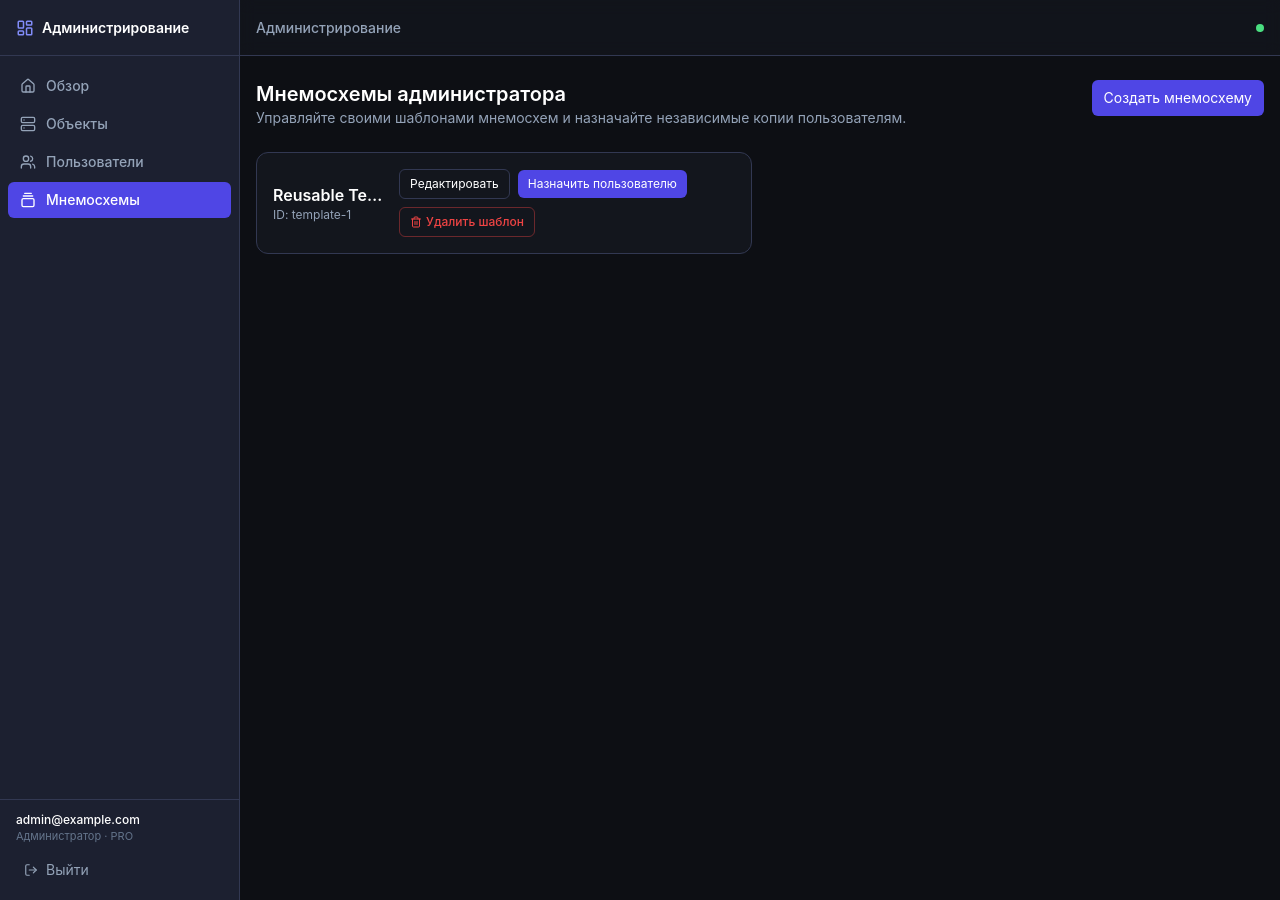
Test case: Admin Hub routes and pages (canonical edge contract) › clears a candidate-loading error after a successful server-backed retry
The image size is (1280, 900).
Click the button "Назначить пользователю" at (602, 184), box [518, 170, 687, 198]
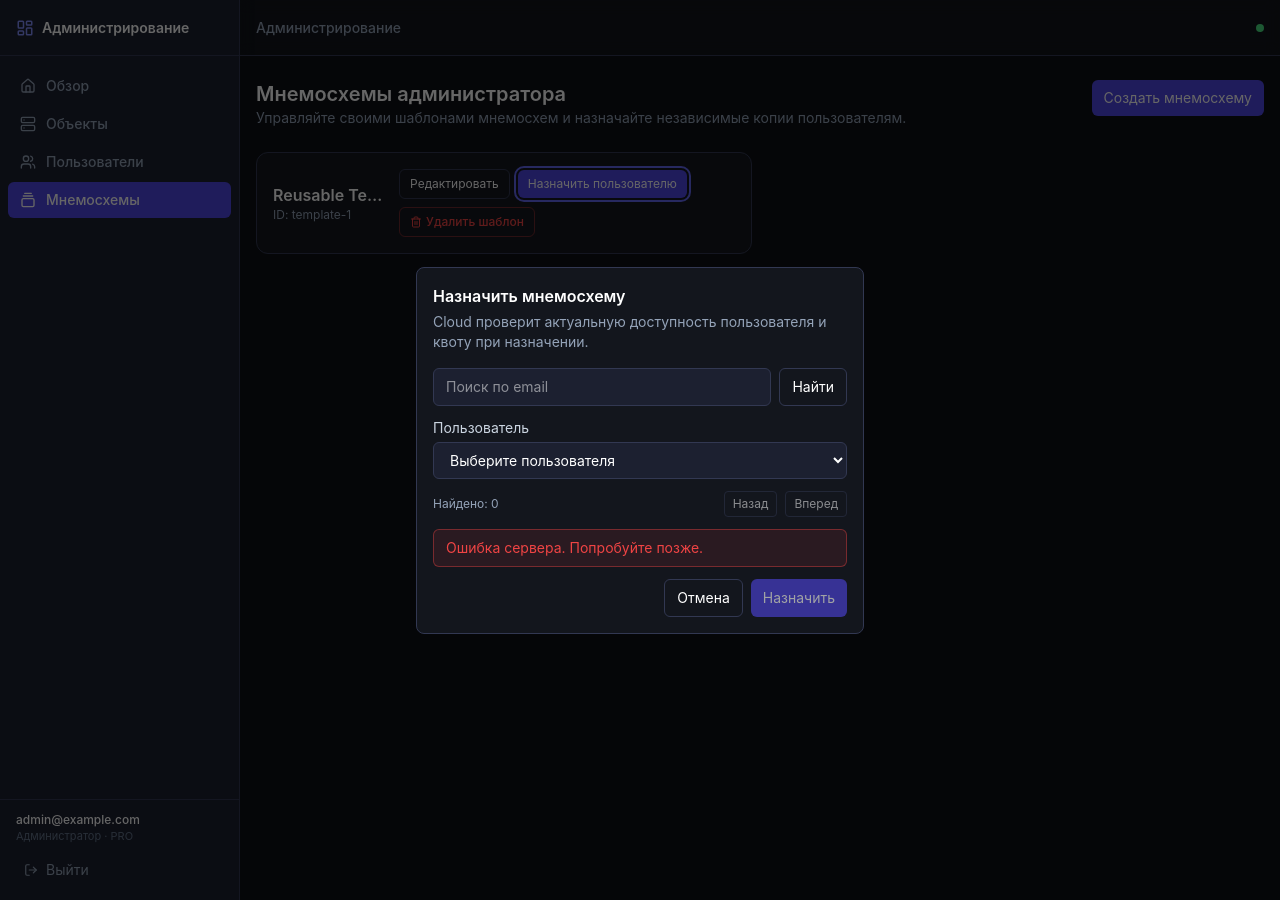
Expected: the text "Ошибка сервера. Попробуйте позже." is shown, [433, 528, 847, 566]
Type "recovered" into the search field named "Поиск пользователей для назначения" at (602, 386), box [433, 368, 771, 406]
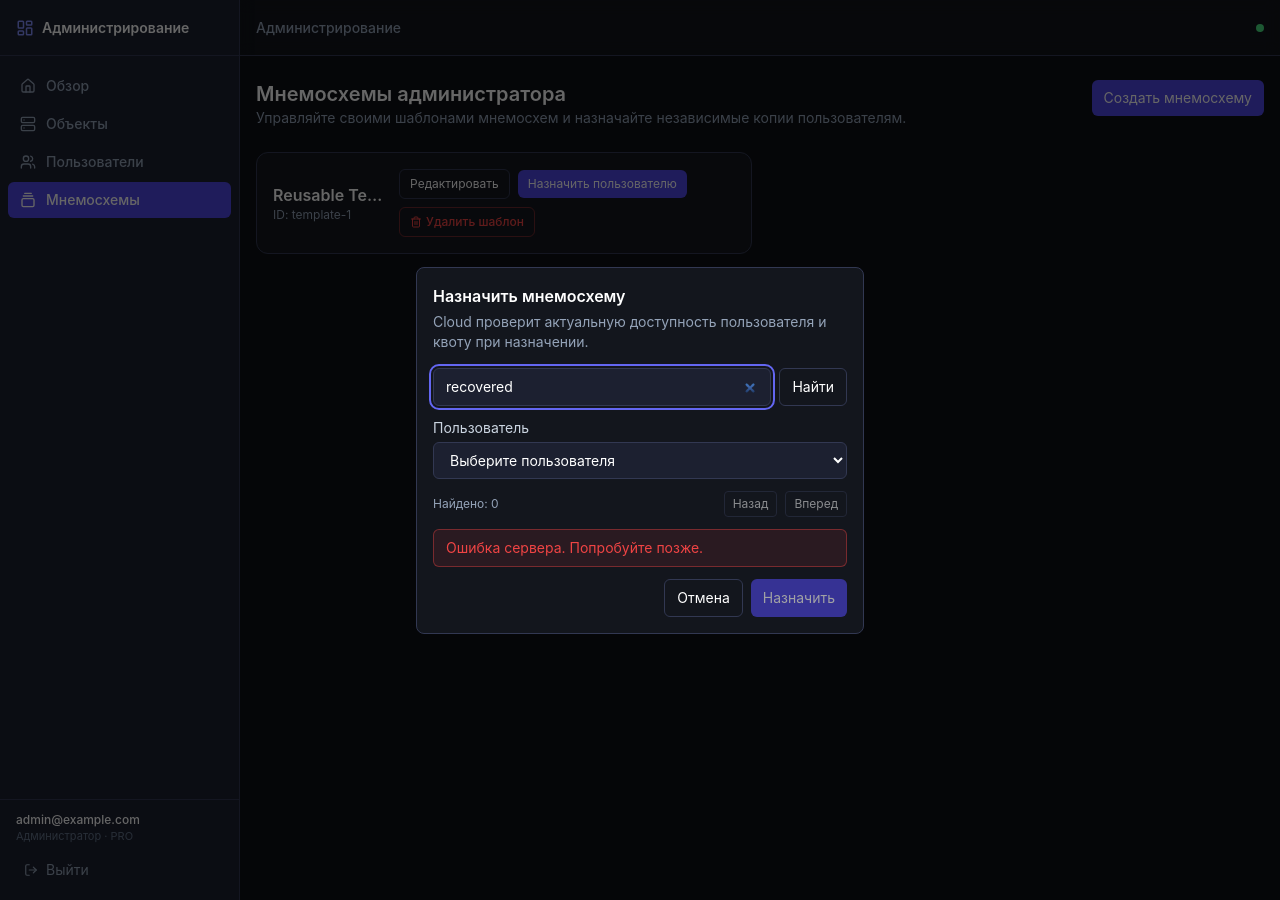
Click the button "Найти" at (813, 386), box [779, 368, 847, 406]
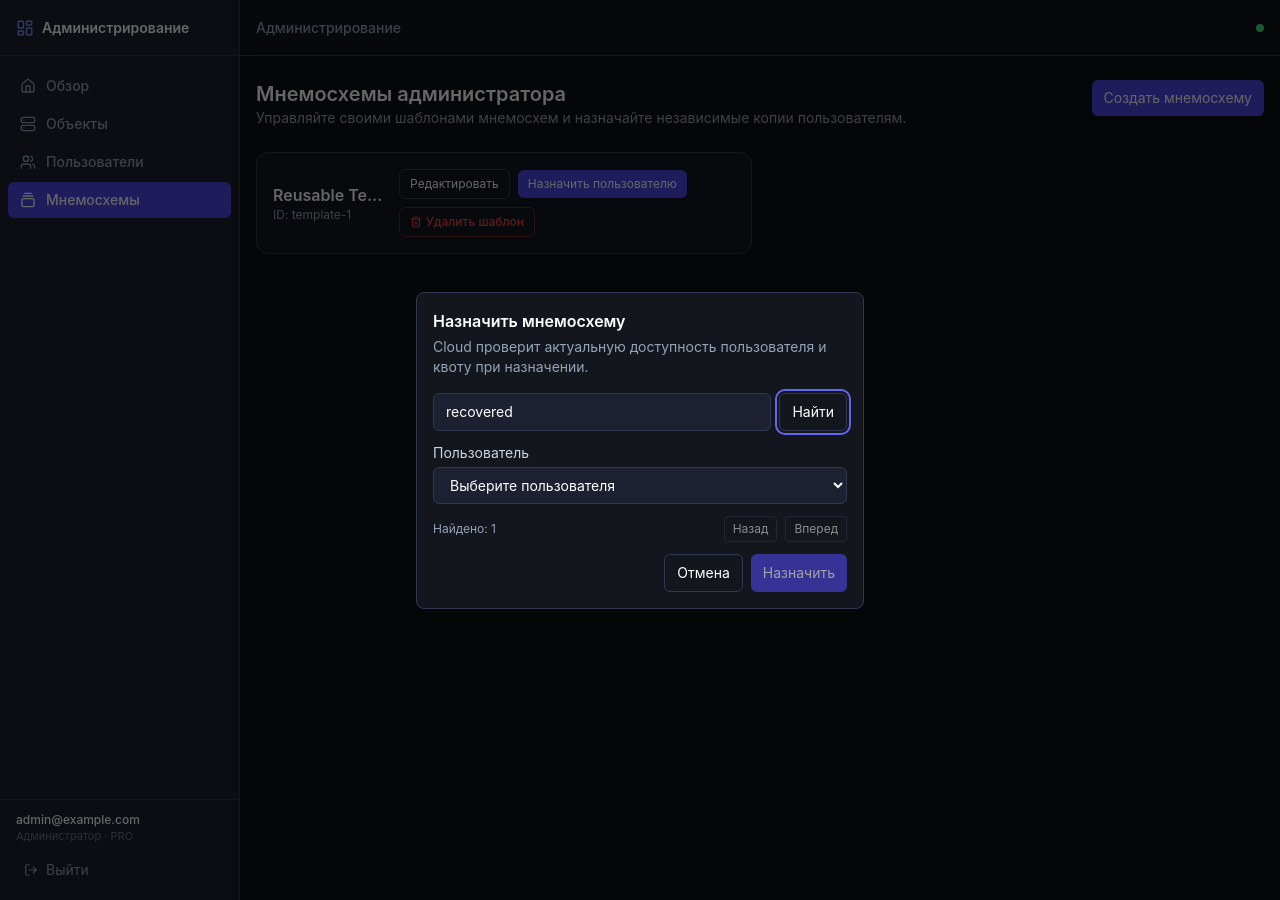
Expected: the text "Ошибка сервера. Попробуйте позже." is gone
